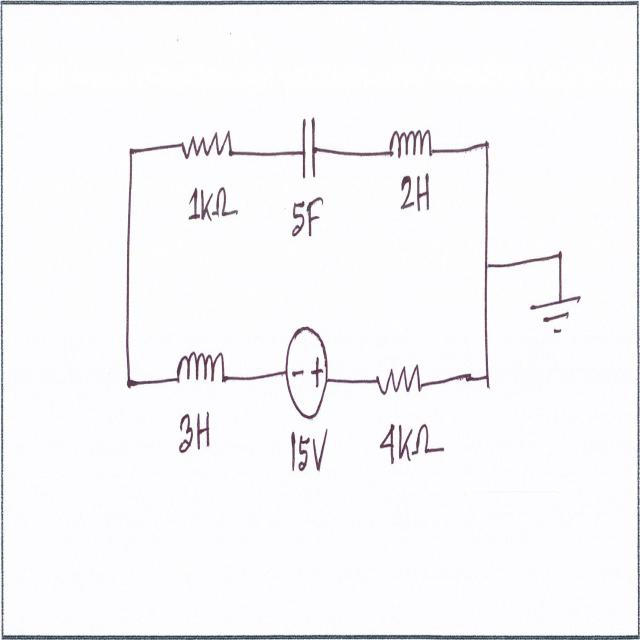capacitor: (299, 106, 319, 190)
ground: (524, 295, 583, 341)
inductor: (173, 341, 228, 397), (383, 126, 439, 169)
resistor: (180, 118, 234, 164), (374, 358, 424, 405)
voltage_source: (281, 318, 331, 422)
